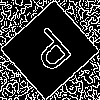P: (25, 25, 81, 81)
